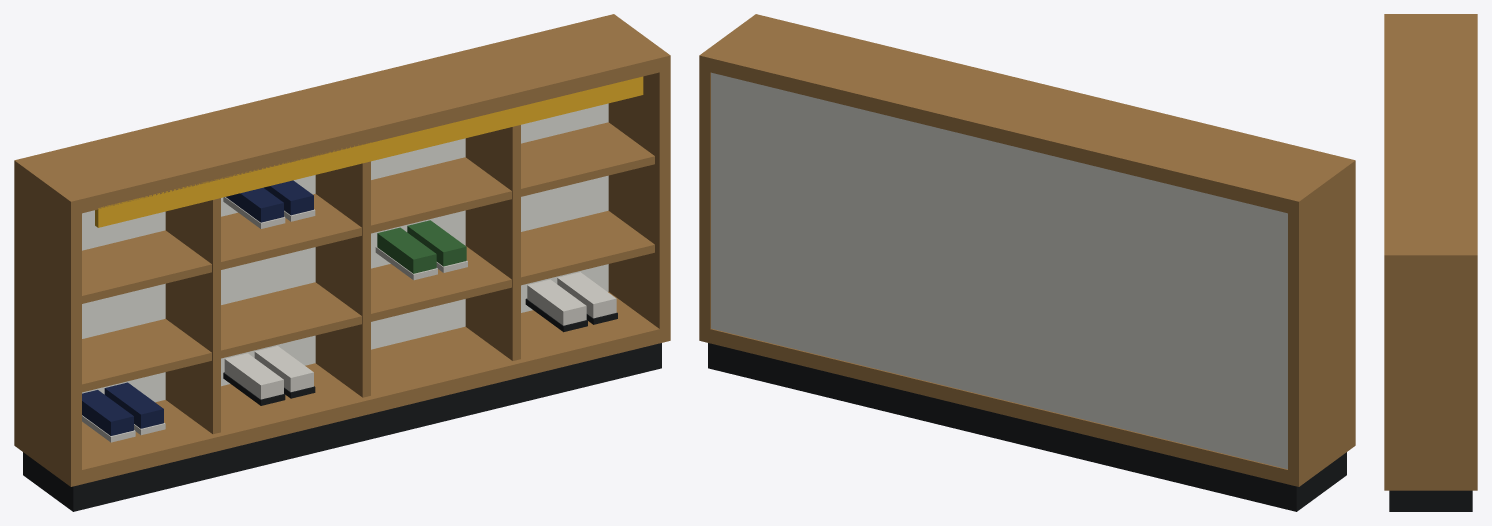
Rendered from SM_CorridorShoeLocker_Realistic.obj.
3 renders of one model, left to right at view 1: azimuth 30°, elevation 25°; view 2: azimuth 150°, elevation 25°; view 3: azimuth 270°, elevation 25°, orthographic. The views are drawn at different scales.
Visible parts, largest first — view 1: Top, Base, Shelf1, Shelf0, BackPanel, SideL, Kick, SideR, LabelStrip, Divider2, Divider1, Divider0 (+10 smaller); view 2: BackPanel, Top, SideL, Kick, Base, SideR; view 3: Top, SideR, Kick, Base.
Boxes of the visible parts, x1=… form: Top: x1=14, y1=14, x2=670, y2=215; Base: x1=14, y1=292, x2=670, y2=486; Shelf1: x1=82, y1=122, x2=654, y2=303; Shelf0: x1=82, y1=210, x2=654, y2=392; BackPanel: x1=82, y1=103, x2=608, y2=402; SideL: x1=14, y1=175, x2=81, y2=486; Kick: x1=23, y1=343, x2=661, y2=511; SideR: x1=608, y1=70, x2=670, y2=339; LabelStrip: x1=95, y1=76, x2=643, y2=227; Divider2: x1=465, y1=125, x2=520, y2=360; Divider1: x1=315, y1=161, x2=370, y2=397; Divider0: x1=165, y1=198, x2=220, y2=434; BackPanel: x1=711, y1=72, x2=1287, y2=469; Top: x1=699, y1=14, x2=1355, y2=215; SideL: x1=1288, y1=175, x2=1355, y2=486; Kick: x1=708, y1=343, x2=1346, y2=511; Base: x1=699, y1=327, x2=1355, y2=486; SideR: x1=699, y1=70, x2=710, y2=342; Top: x1=1384, y1=14, x2=1477, y2=266; SideR: x1=1384, y1=267, x2=1477, y2=490; Kick: x1=1389, y1=490, x2=1472, y2=511; Base: x1=1384, y1=479, x2=1477, y2=490.
Bounding box in the file's own units: 2.2 × 1.1 × 0.36.
